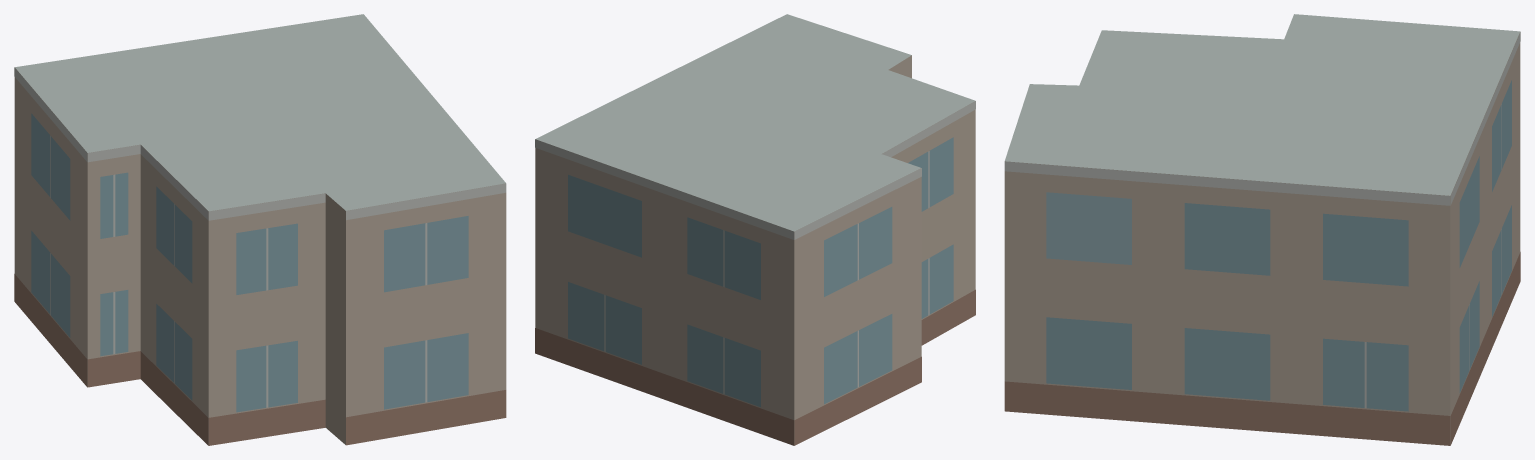
Rendered from survey-upis-32653199.glb.
3 renders of one model, left to right at view 1: azimuth 30°, elevation 25°; view 2: azimuth 150°, elevation 25°; view 3: azimuth 270°, elevation 25°, orthographic. The views are drawn at different scales.
Visible parts, largest first — view 1: survey-upis-32653199.tmp; view 2: survey-upis-32653199.tmp; view 3: survey-upis-32653199.tmp.
Part boxes in pixels (bbox=[...]): survey-upis-32653199.tmp: bbox=[14, 14, 506, 445]; survey-upis-32653199.tmp: bbox=[535, 14, 975, 445]; survey-upis-32653199.tmp: bbox=[1004, 14, 1520, 445].
Bounding box in the file's own units: 9.53 × 6.1 × 11.42.
